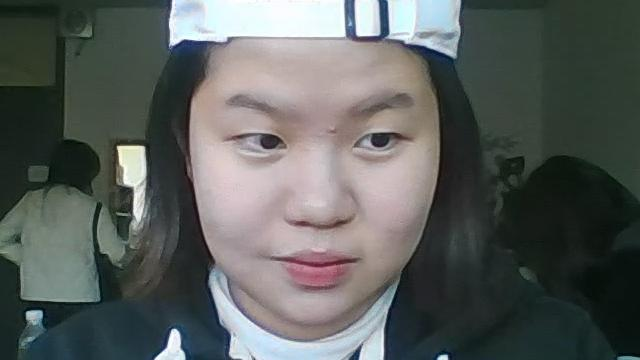eye: (372, 130, 389, 147), (261, 132, 278, 148)
iris: (354, 132, 400, 149), (242, 135, 287, 150)
